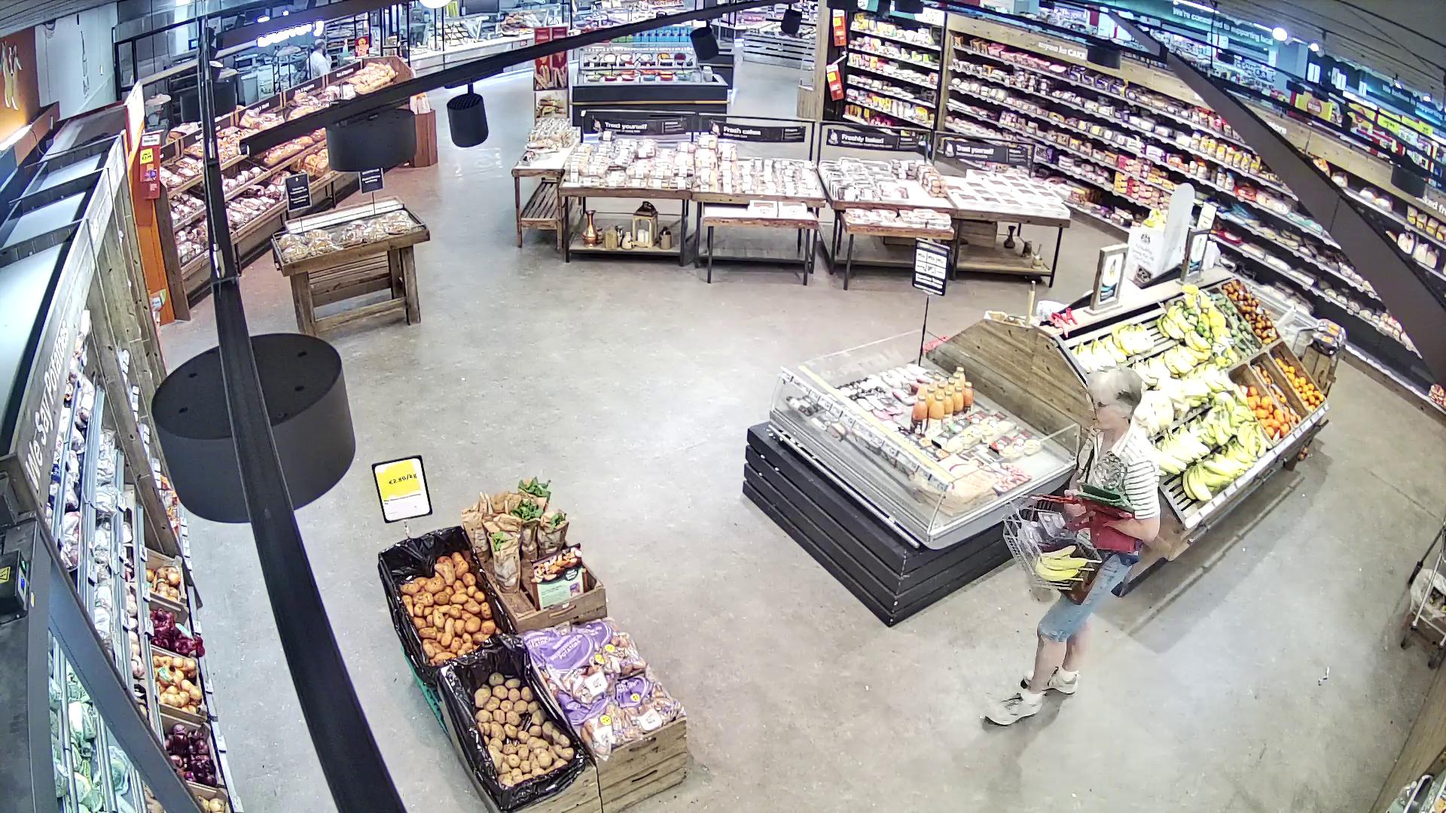empty-shopping-bags: (1066, 479, 1138, 553)
filled-basket: (1005, 493, 1103, 590)
person: (982, 366, 1161, 728)
person-with-basket-trolly-and-shopping-bag: (982, 366, 1162, 729)
